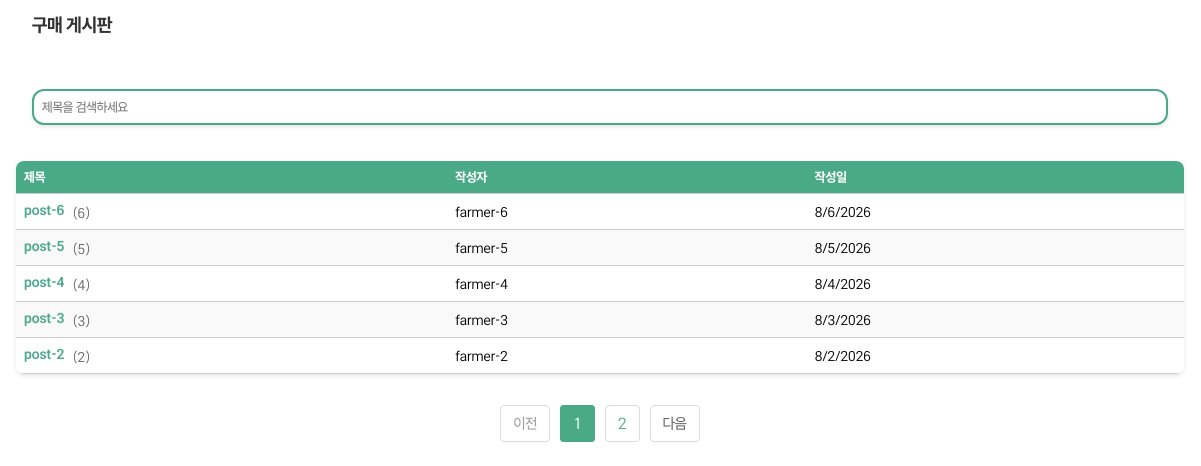
Test: paginates the filtered post collection
The image size is (1201, 466).
Check: the navigation bar named "구매 게시판 페이지 탐색" is shown, box [495,398,704,449]
Click the button "다음" at (675, 424), box [650,405,700,442]
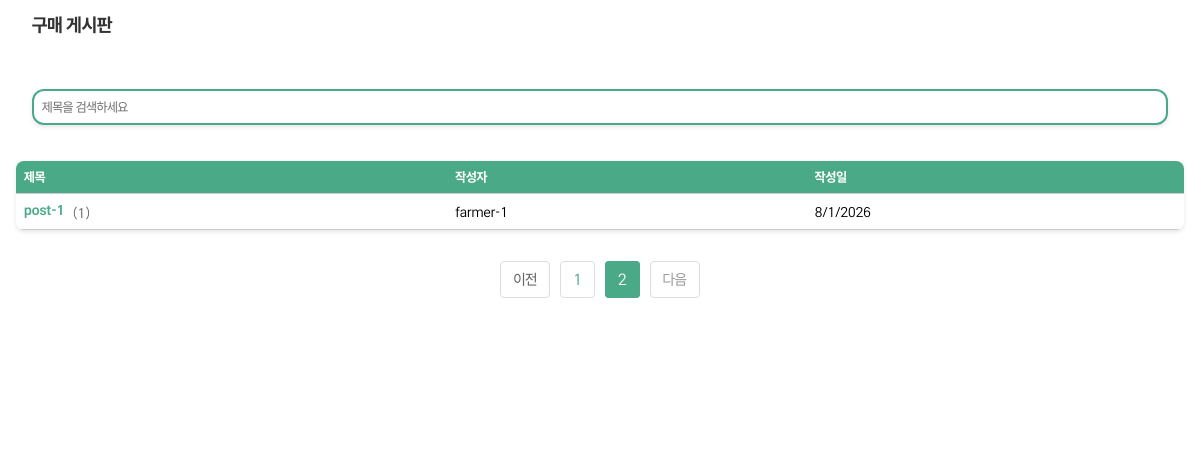
Check: the text "post-1" is shown, box [24,202,64,218]
Check: the link "post-6" is gone
